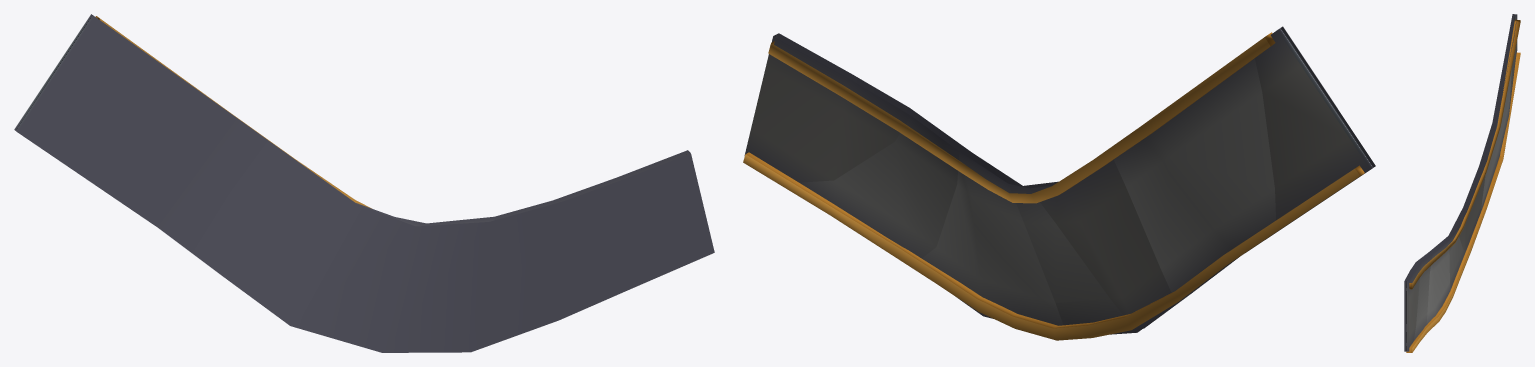
Rendered from Slide.fbx.
3 renders of one model, left to right at view 1: azimuth 30°, elevation 25°; view 2: azimuth 150°, elevation 25°; view 3: azimuth 270°, elevation 25°, orthographic. The views are drawn at different scales.
Visible parts, largest first — view 1: Slide; view 2: Slide; view 3: Slide.
Part boxes in pixels (bbox=[...]): Slide: bbox=[14, 14, 714, 352]; Slide: bbox=[743, 26, 1375, 340]; Slide: bbox=[1404, 14, 1520, 352].
Bounding box in the file's own units: 1076 × 612 × 295.
